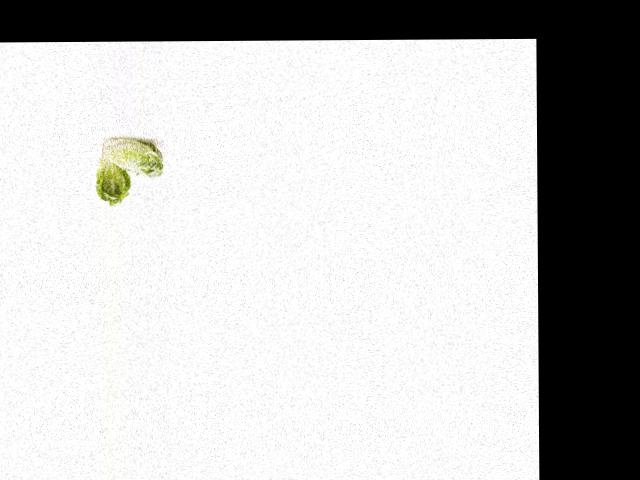lettuce: (97, 135, 167, 181)
